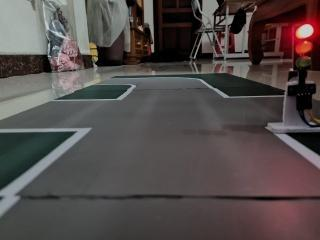red: (288, 17, 317, 76)
